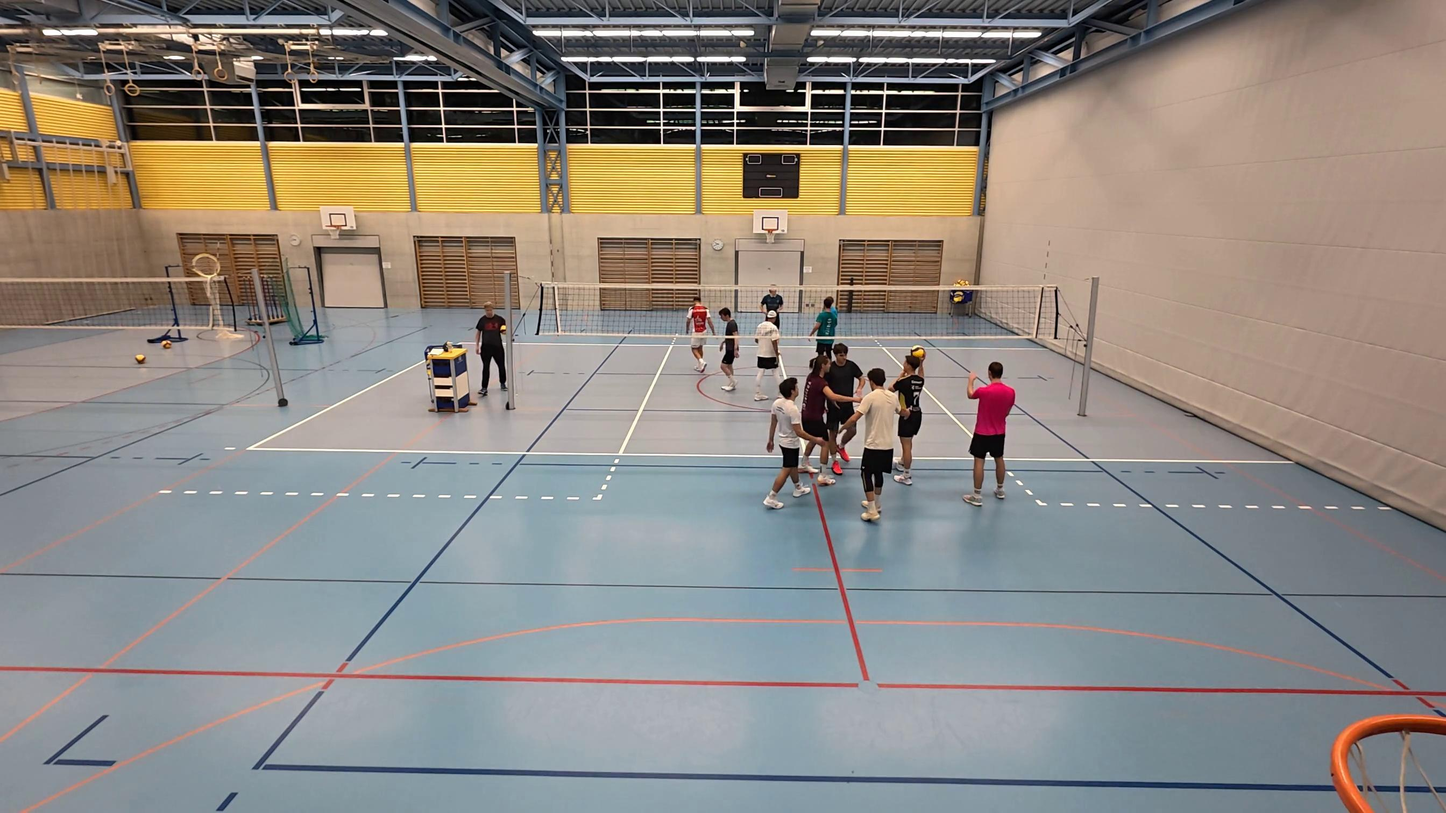Player: (764, 380, 817, 509), (797, 348, 840, 487), (853, 369, 891, 523), (822, 343, 864, 481), (890, 350, 928, 486), (751, 310, 784, 400), (716, 306, 741, 393), (687, 295, 713, 374), (809, 295, 839, 357), (759, 284, 783, 326)
ball: (909, 346, 926, 360)
